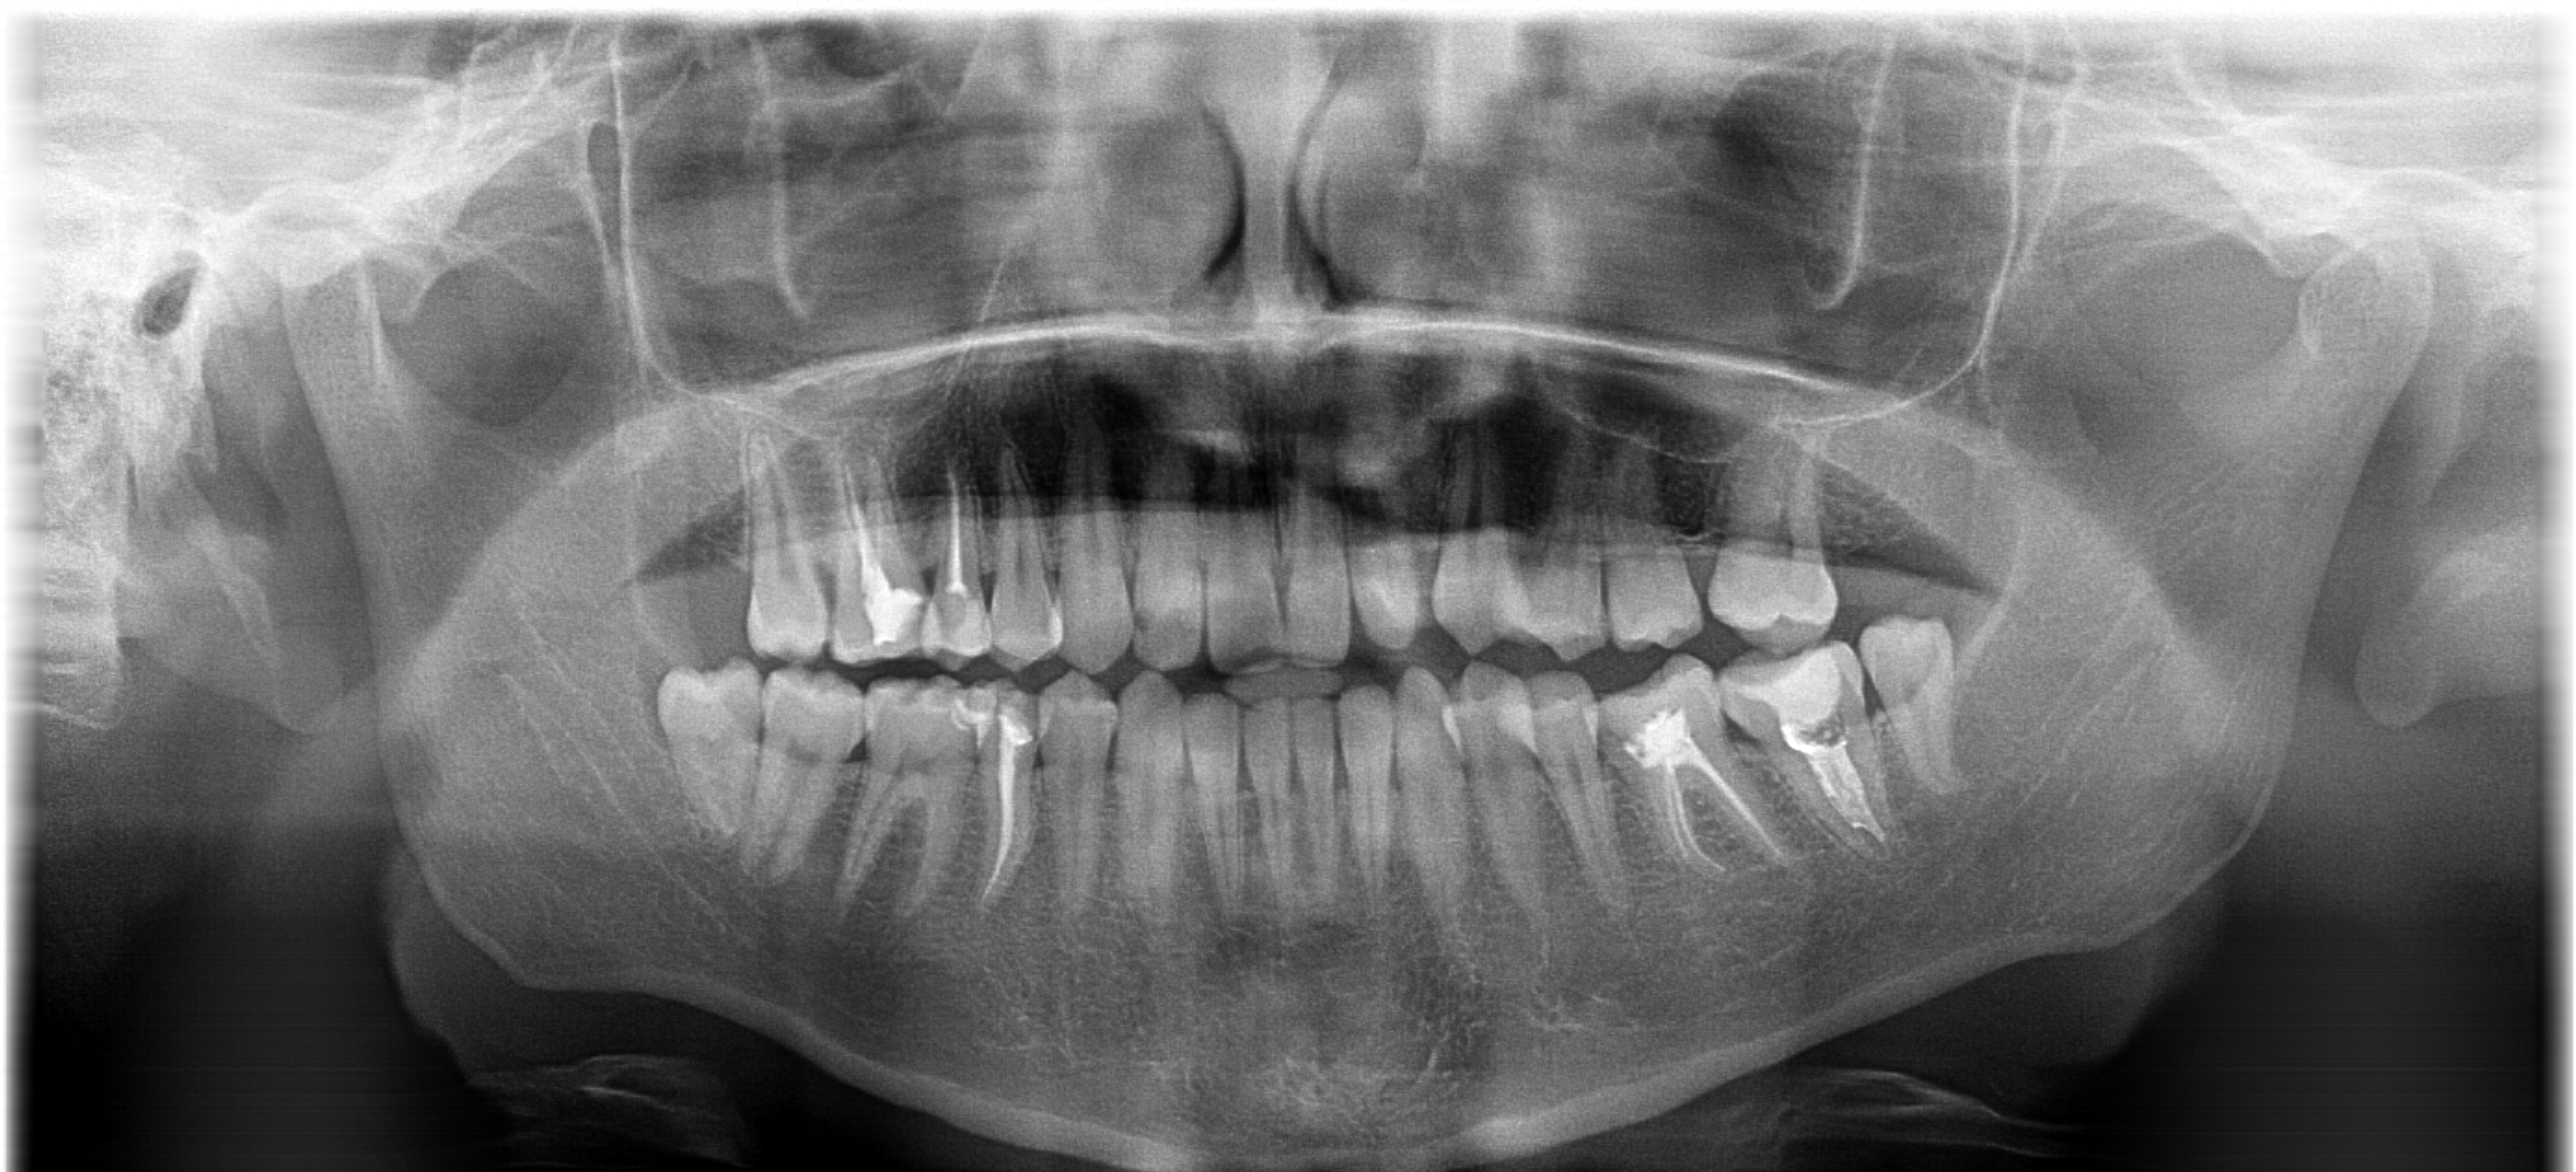cordal: (606, 630, 800, 861), (1847, 587, 2001, 809)
tratamiento_conducto: (1566, 662, 1815, 902), (812, 429, 928, 662), (954, 672, 1053, 940), (920, 437, 1012, 679)
